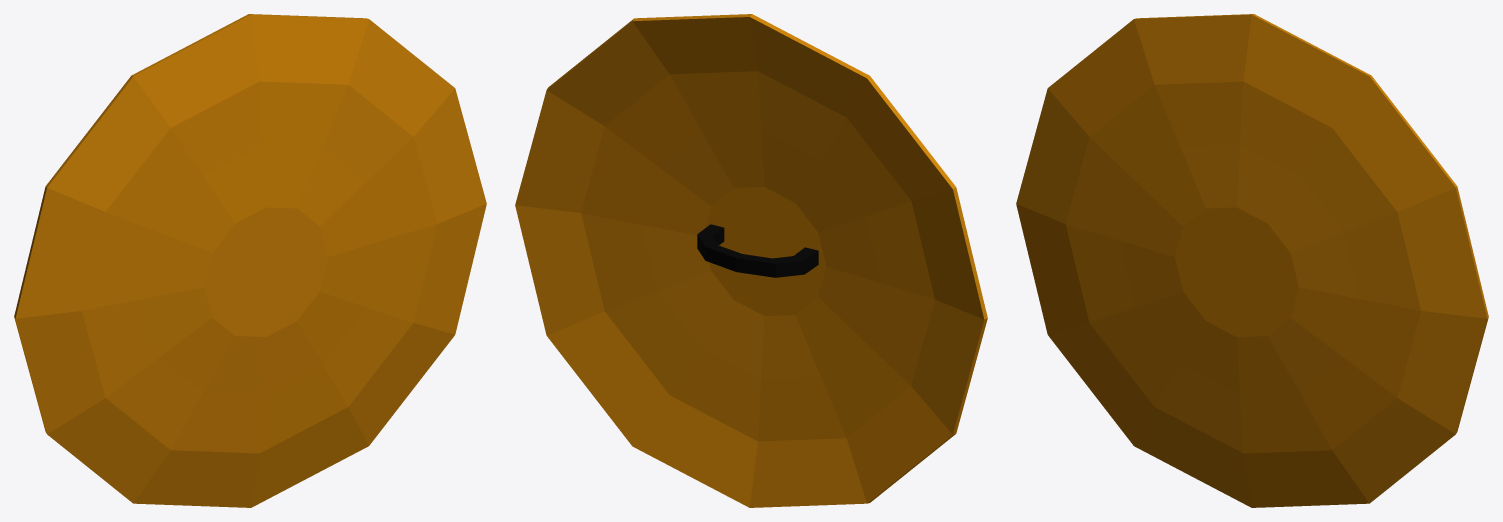
The model's file is Shield_02.fbx.
3 views of the same model, side by side, from view 1: azimuth 30°, elevation 25°; view 2: azimuth 150°, elevation 25°; view 3: azimuth 330°, elevation 25° (orthographic).
Visible parts, largest first — view 1: Shield_02; view 2: Shield_02; view 3: Shield_02.
Part boxes in pixels (x1,y1,x2,y2): Shield_02: [14, 14, 486, 507]; Shield_02: [515, 14, 987, 507]; Shield_02: [1016, 14, 1488, 507].
Size of the model in its own units: 55.71 by 55.71 by 6.28.
